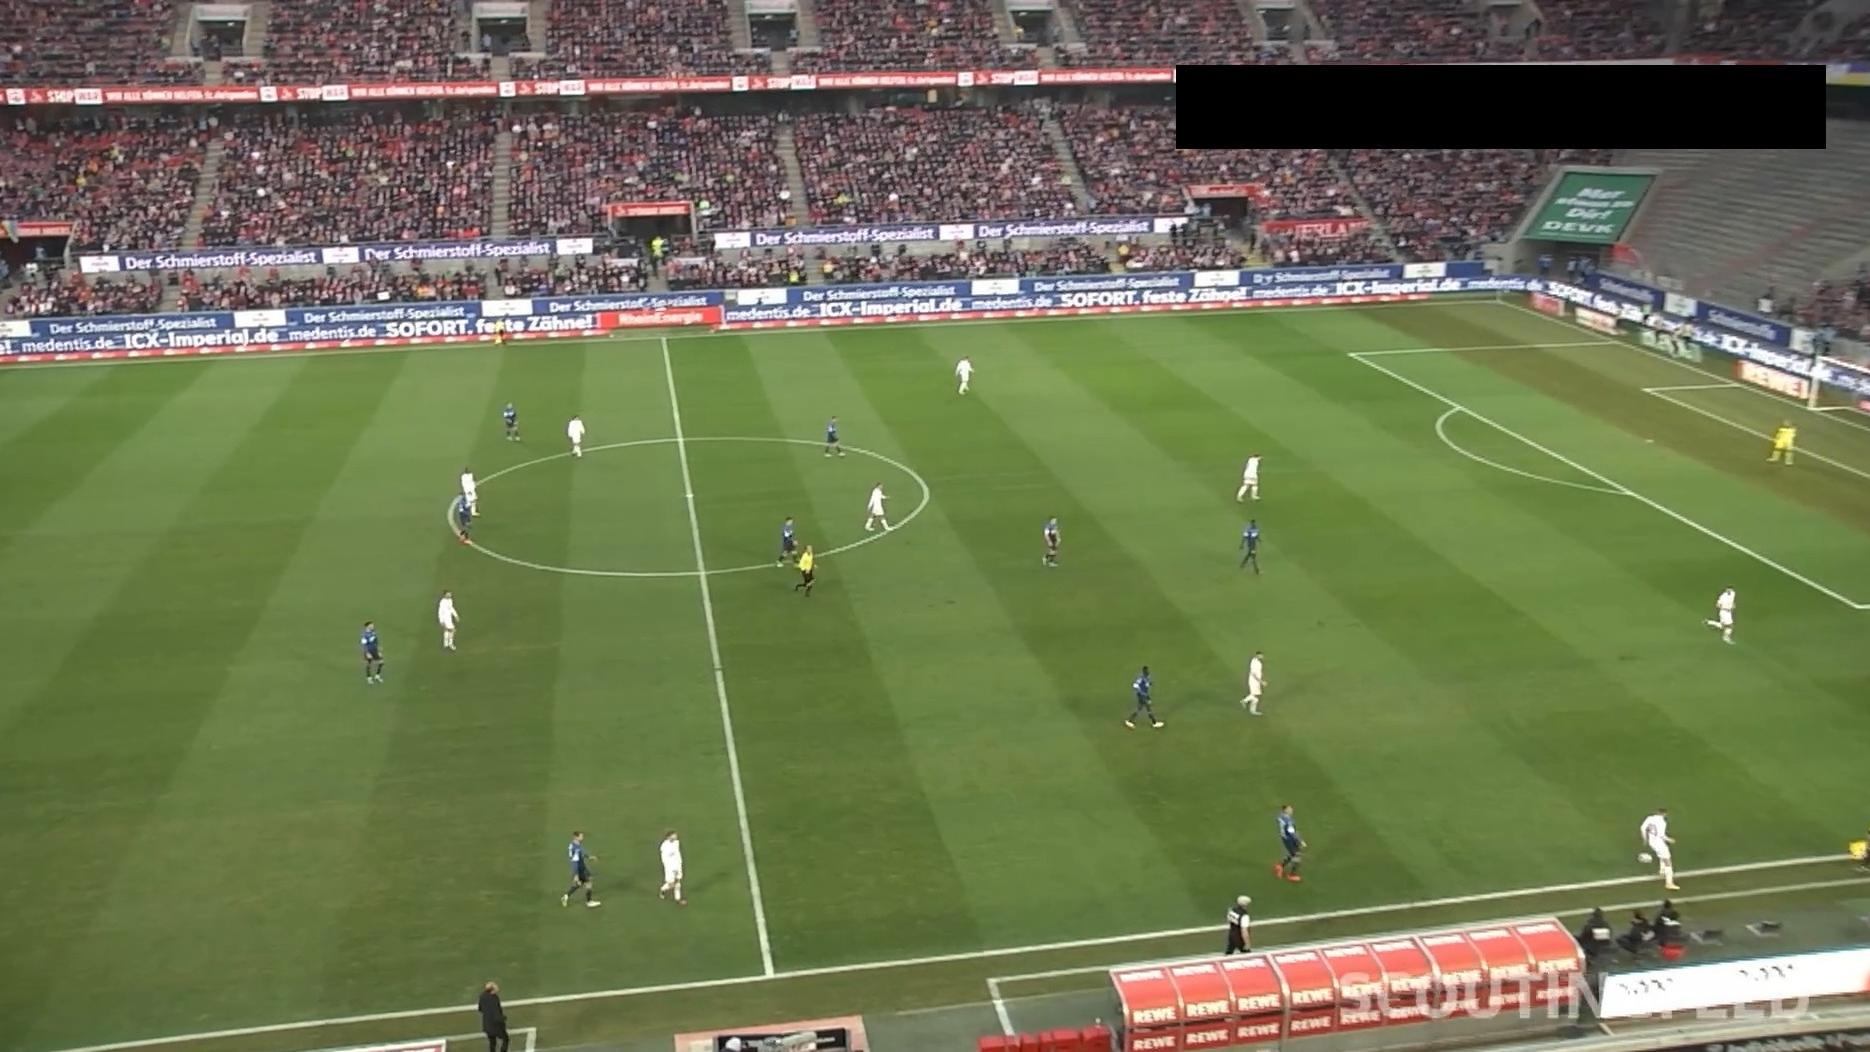ball: (1636, 852, 1653, 864)
